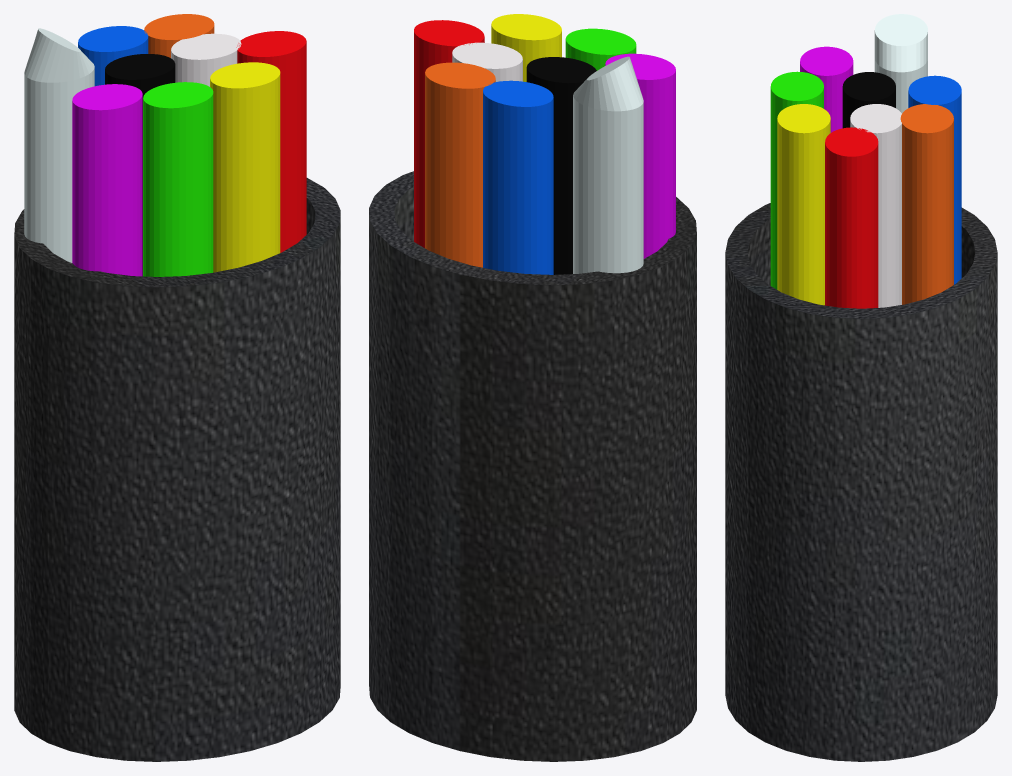
Rendered from Pencil_Holder.fbx.
3 renders of one model, left to right at view 1: azimuth 30°, elevation 25°; view 2: azimuth 150°, elevation 25°; view 3: azimuth 270°, elevation 25°, orthographic. The views are drawn at different scales.
Parts seen in each view (by area): view 1: Cylinder, Cylinder.005, Cylinder.006, Cylinder.008, Cylinder.003, Cylinder.004, Cylinder.009, Cylinder.007, Cylinder.010, Cylinder.002; view 2: Cylinder, Cylinder.003, Cylinder.007, Cylinder.002, Cylinder.008, Cylinder.010, Cylinder.004, Cylinder.005, Cylinder.006, Cylinder.009; view 3: Cylinder, Cylinder.002, Cylinder.004, Cylinder.005, Cylinder.009, Cylinder.003, Cylinder.006, Cylinder.007, Cylinder.008, Cylinder.010.
Part boxes in pixels (x1,y1,x2,y2): Cylinder: (14, 178, 340, 761); Cylinder.005: (210, 62, 280, 272); Cylinder.006: (143, 82, 213, 276); Cylinder.008: (72, 84, 142, 276); Cylinder.003: (24, 28, 94, 262); Cylinder.004: (236, 31, 306, 252); Cylinder.009: (171, 33, 241, 86); Cylinder.007: (78, 26, 148, 86); Cylinder.010: (105, 54, 175, 275); Cylinder.002: (144, 14, 214, 57); Cylinder: (369, 171, 696, 761); Cylinder.003: (573, 56, 643, 273); Cylinder.007: (483, 80, 553, 274); Cylinder.002: (425, 62, 495, 267); Cylinder.008: (605, 53, 675, 258); Cylinder.010: (526, 57, 596, 274); Cylinder.004: (414, 20, 484, 247); Cylinder.005: (491, 14, 561, 81); Cylinder.006: (565, 28, 636, 70); Cylinder.009: (452, 42, 522, 81); Cylinder: (725, 203, 997, 761); Cylinder.002: (900, 104, 953, 304); Cylinder.004: (825, 127, 878, 308); Cylinder.005: (777, 104, 830, 305); Cylinder.009: (850, 104, 901, 307); Cylinder.003: (874, 14, 927, 113); Cylinder.006: (770, 71, 823, 289); Cylinder.007: (908, 75, 961, 284); Cylinder.008: (800, 46, 853, 132); Cylinder.010: (842, 72, 895, 128).
Size of the model in its own units: 91.39 by 201 by 78.78.
